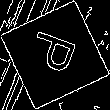P_E: (25, 29, 85, 81)
